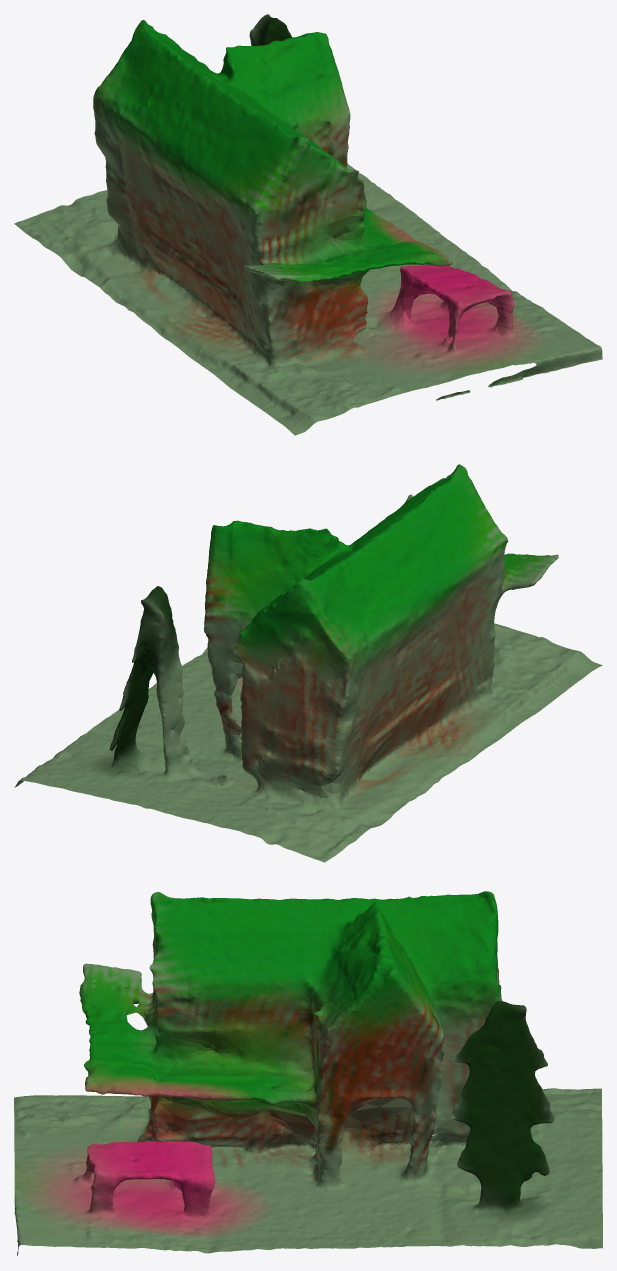
File: colored_190918_fmt1_2.glb
3 views of the same model, one above another, from view 1: azimuth 30°, elevation 25°; view 2: azimuth 150°, elevation 25°; view 3: azimuth 270°, elevation 25° (orthographic). The views are drawn at different scales.
Visible parts, largest first — view 1: base_190918_fmt1; view 2: base_190918_fmt1; view 3: base_190918_fmt1.
Boxes of the visible parts, bbox=[...] form: base_190918_fmt1: bbox=[14, 14, 602, 435]; base_190918_fmt1: bbox=[14, 464, 602, 862]; base_190918_fmt1: bbox=[14, 891, 602, 1255].
Bounding box in the file's own units: 5.85 × 4.27 × 9.13.
